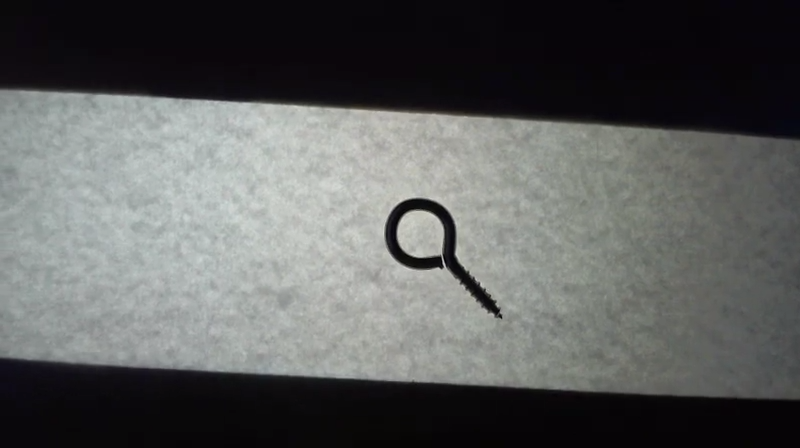O001: (379, 195, 509, 327)
